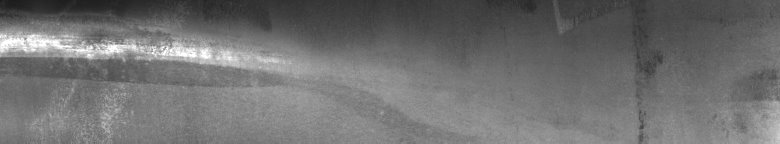ke: (4, 8, 281, 136)
